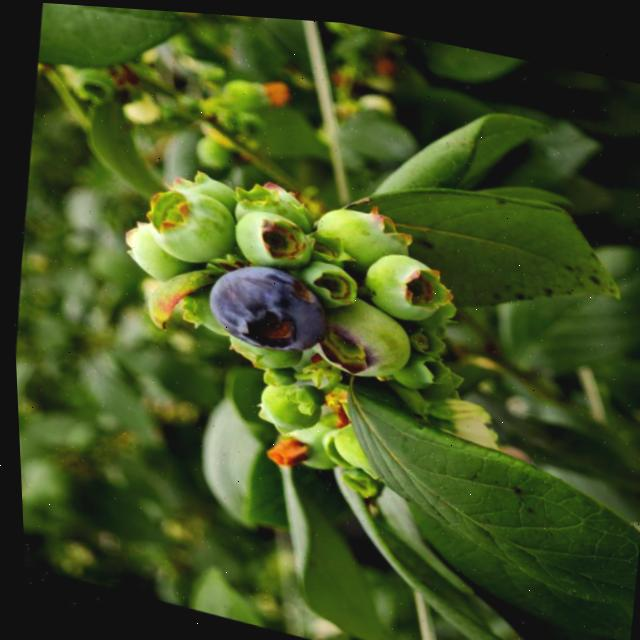RipeBlueBerry: (197, 249, 336, 368)
UnripeBlueBerry: (304, 280, 421, 389), (135, 179, 240, 277)
